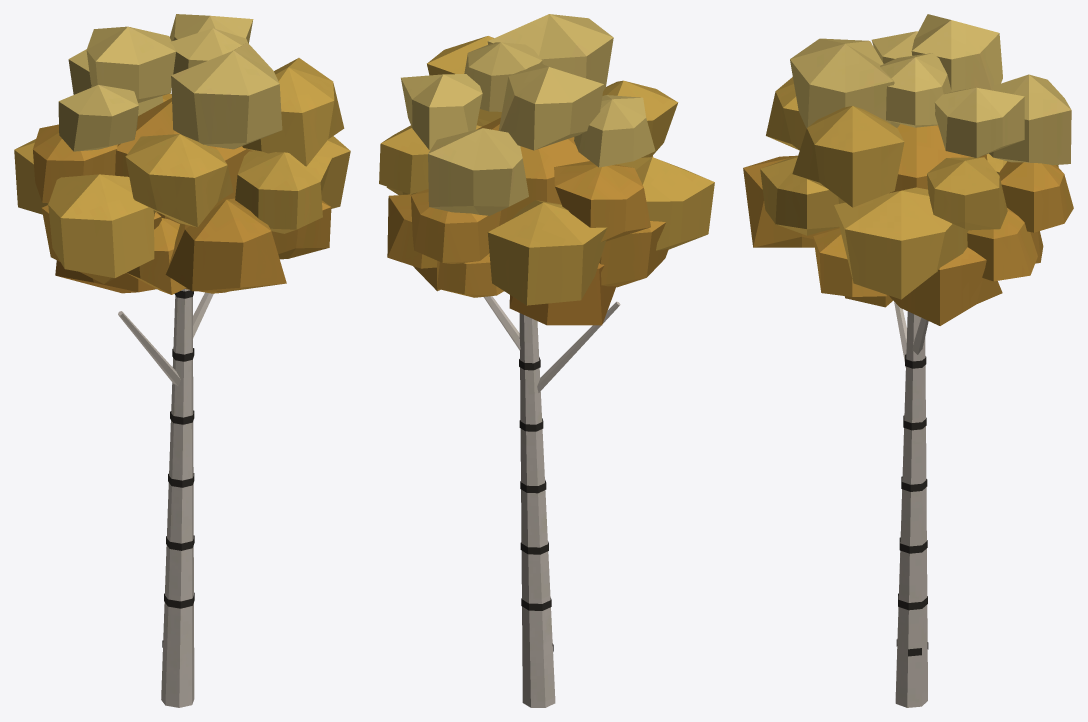
File: tree_birch_01_autumn.glb
The picture shows the model from 3 angles, left to right: view 1: azimuth 30°, elevation 25°; view 2: azimuth 150°, elevation 25°; view 3: azimuth 270°, elevation 25°; orthographic projection.
Visible parts, largest first — view 1: tree_birch_01_autumn; view 2: tree_birch_01_autumn; view 3: tree_birch_01_autumn.
Part boxes in pixels (x1,y1,x2,y2): tree_birch_01_autumn: (14, 14, 350, 707); tree_birch_01_autumn: (379, 14, 714, 707); tree_birch_01_autumn: (743, 14, 1073, 707).
Bounding box in the file's own units: 3.12 × 6.48 × 2.91.
6 materials, 5 textured.
